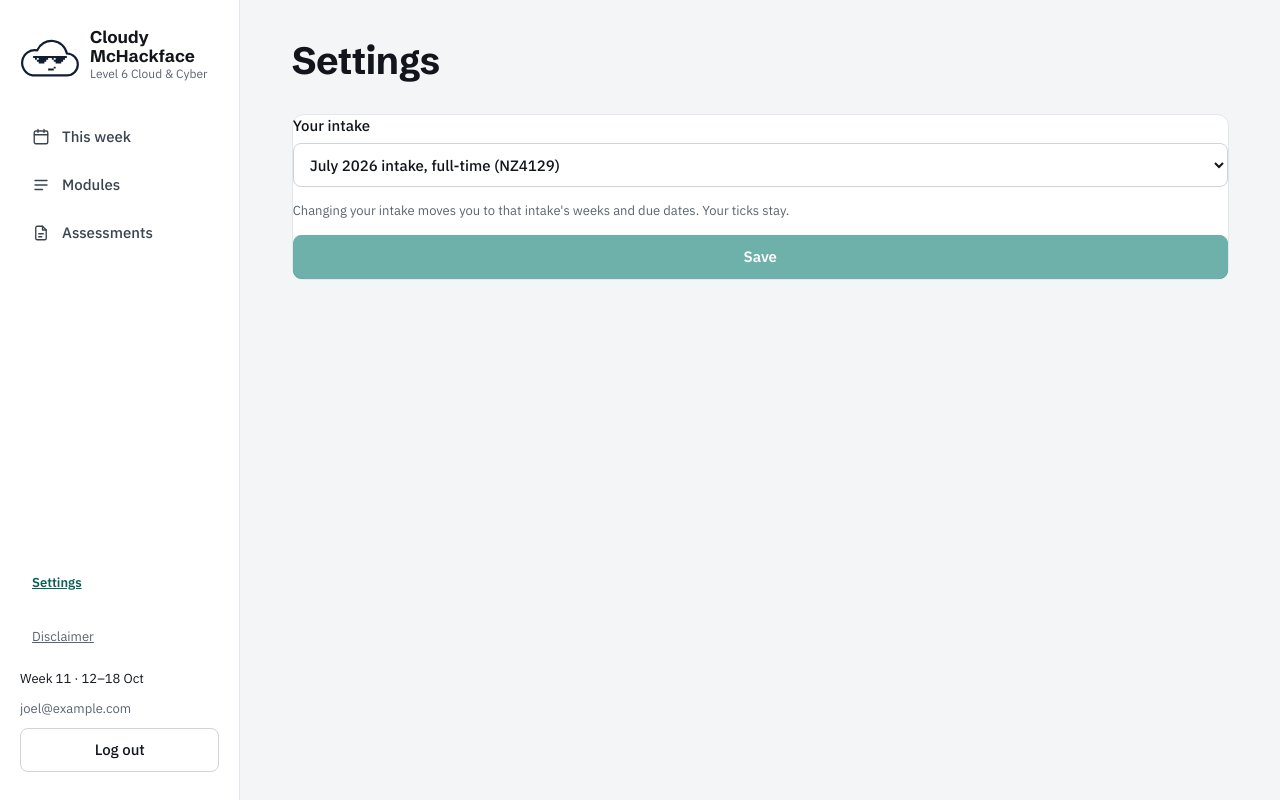
Test: SettingsPage › shows the current intake and saves a new one
Expected: the heading "Settings" is shown, [292,37,440,84]
Expected: the button "Save" is disabled, [293,235,1228,279]
Select "July 2026 intake, part-time (NZ4129)" in the dropdown labelled "Your intake" at (760, 165), box [293,143,1228,187]
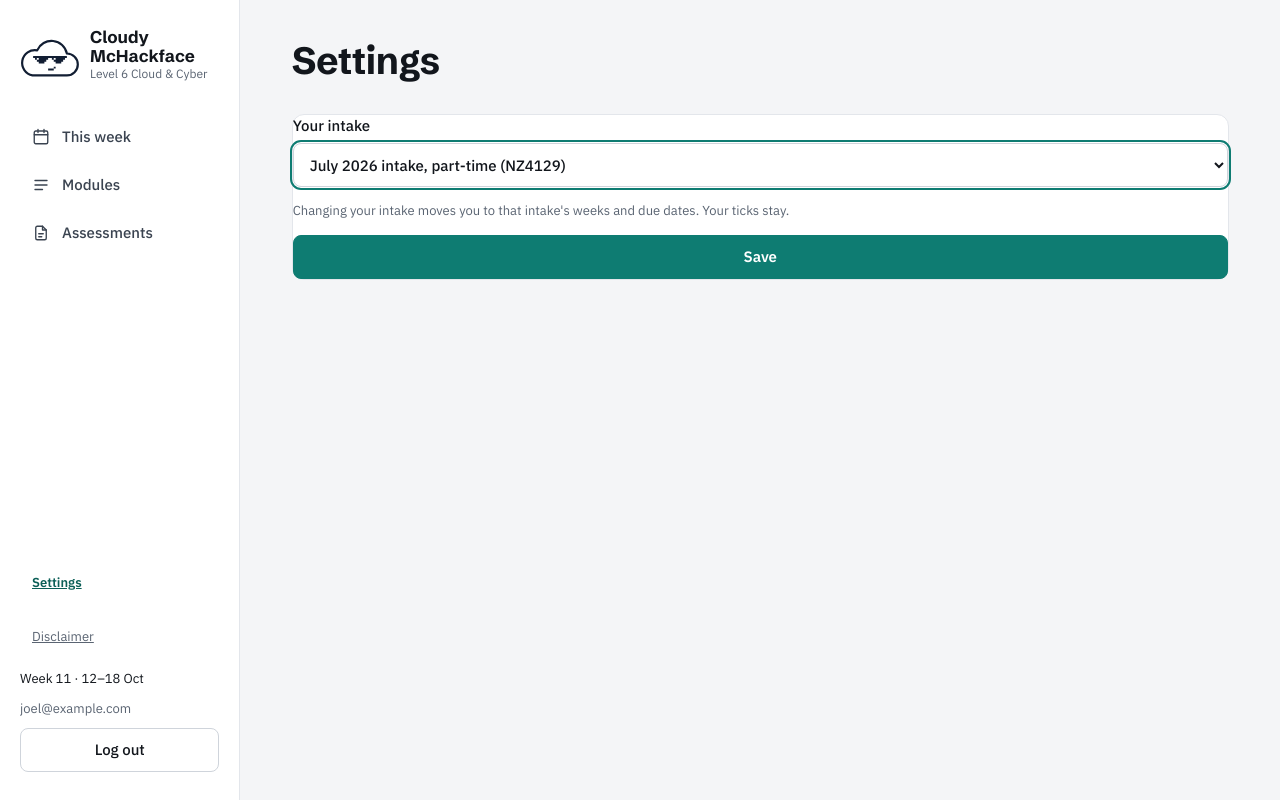
Click the button "Save" at (760, 257), box [293,235,1228,279]
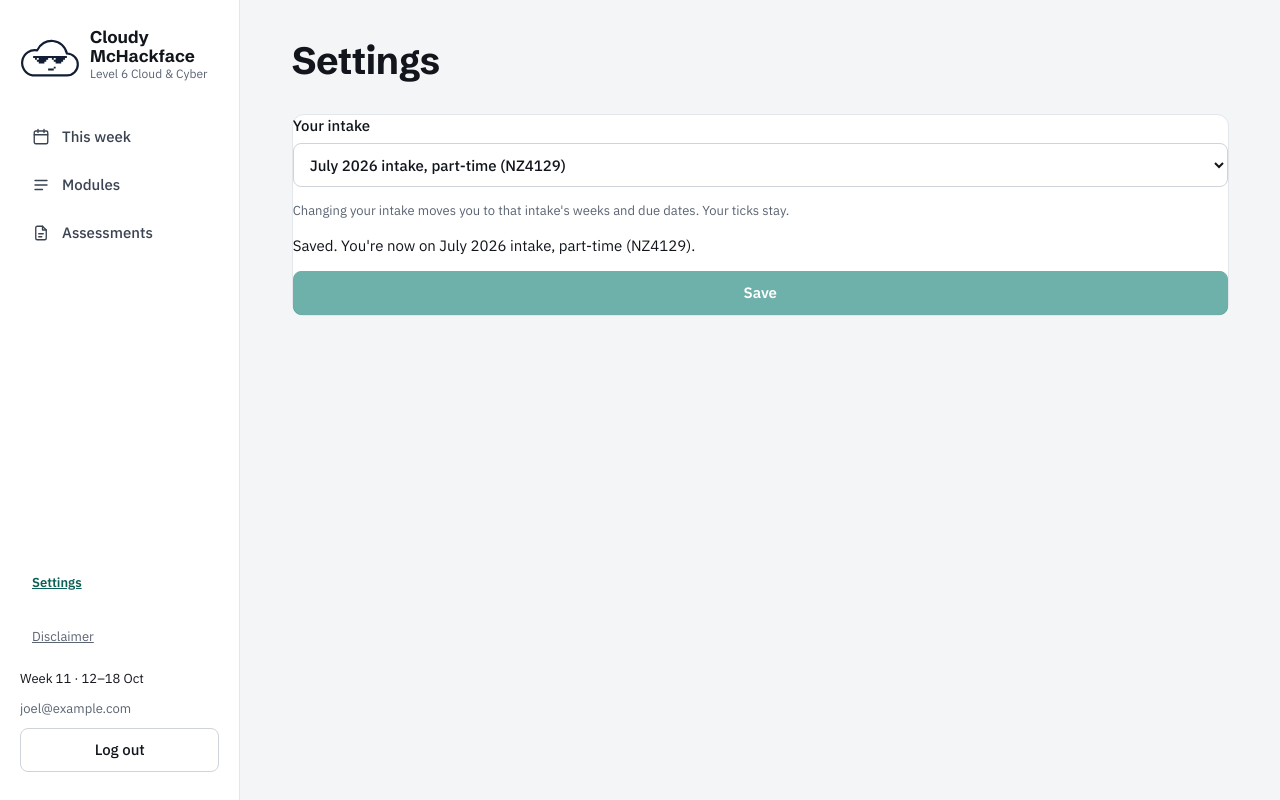
Result: the message reads "Saved. You're now on July 2026 intake, part-time (NZ4129)." at [293,236,695,255]
